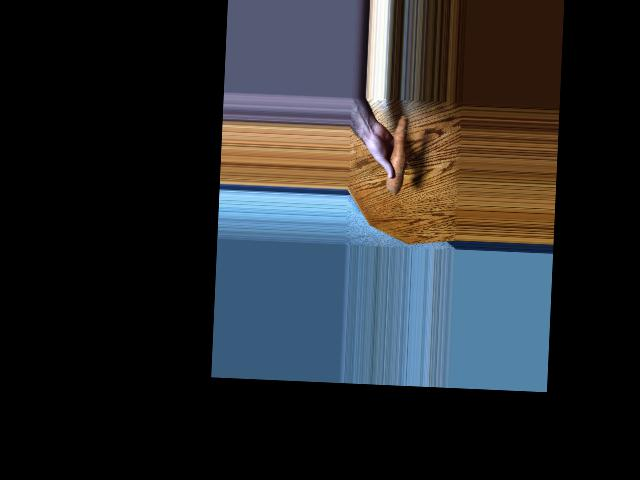sweet_potato: (388, 112, 410, 193)
